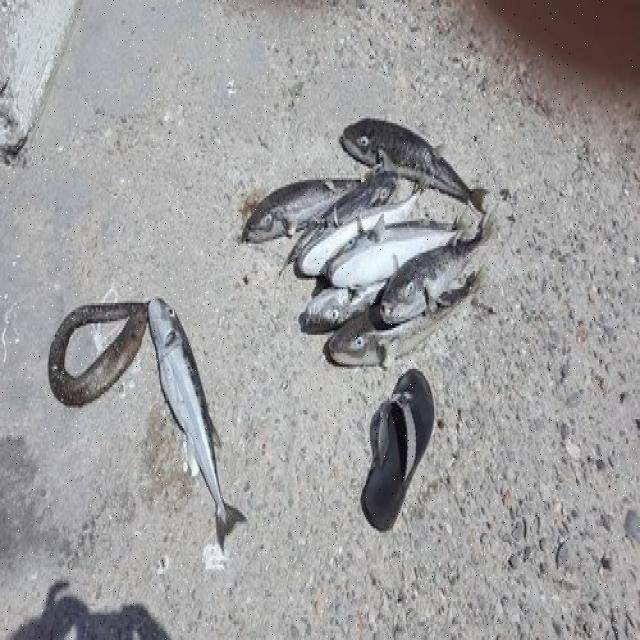Balik: (243, 118, 485, 364), (148, 301, 244, 547)
